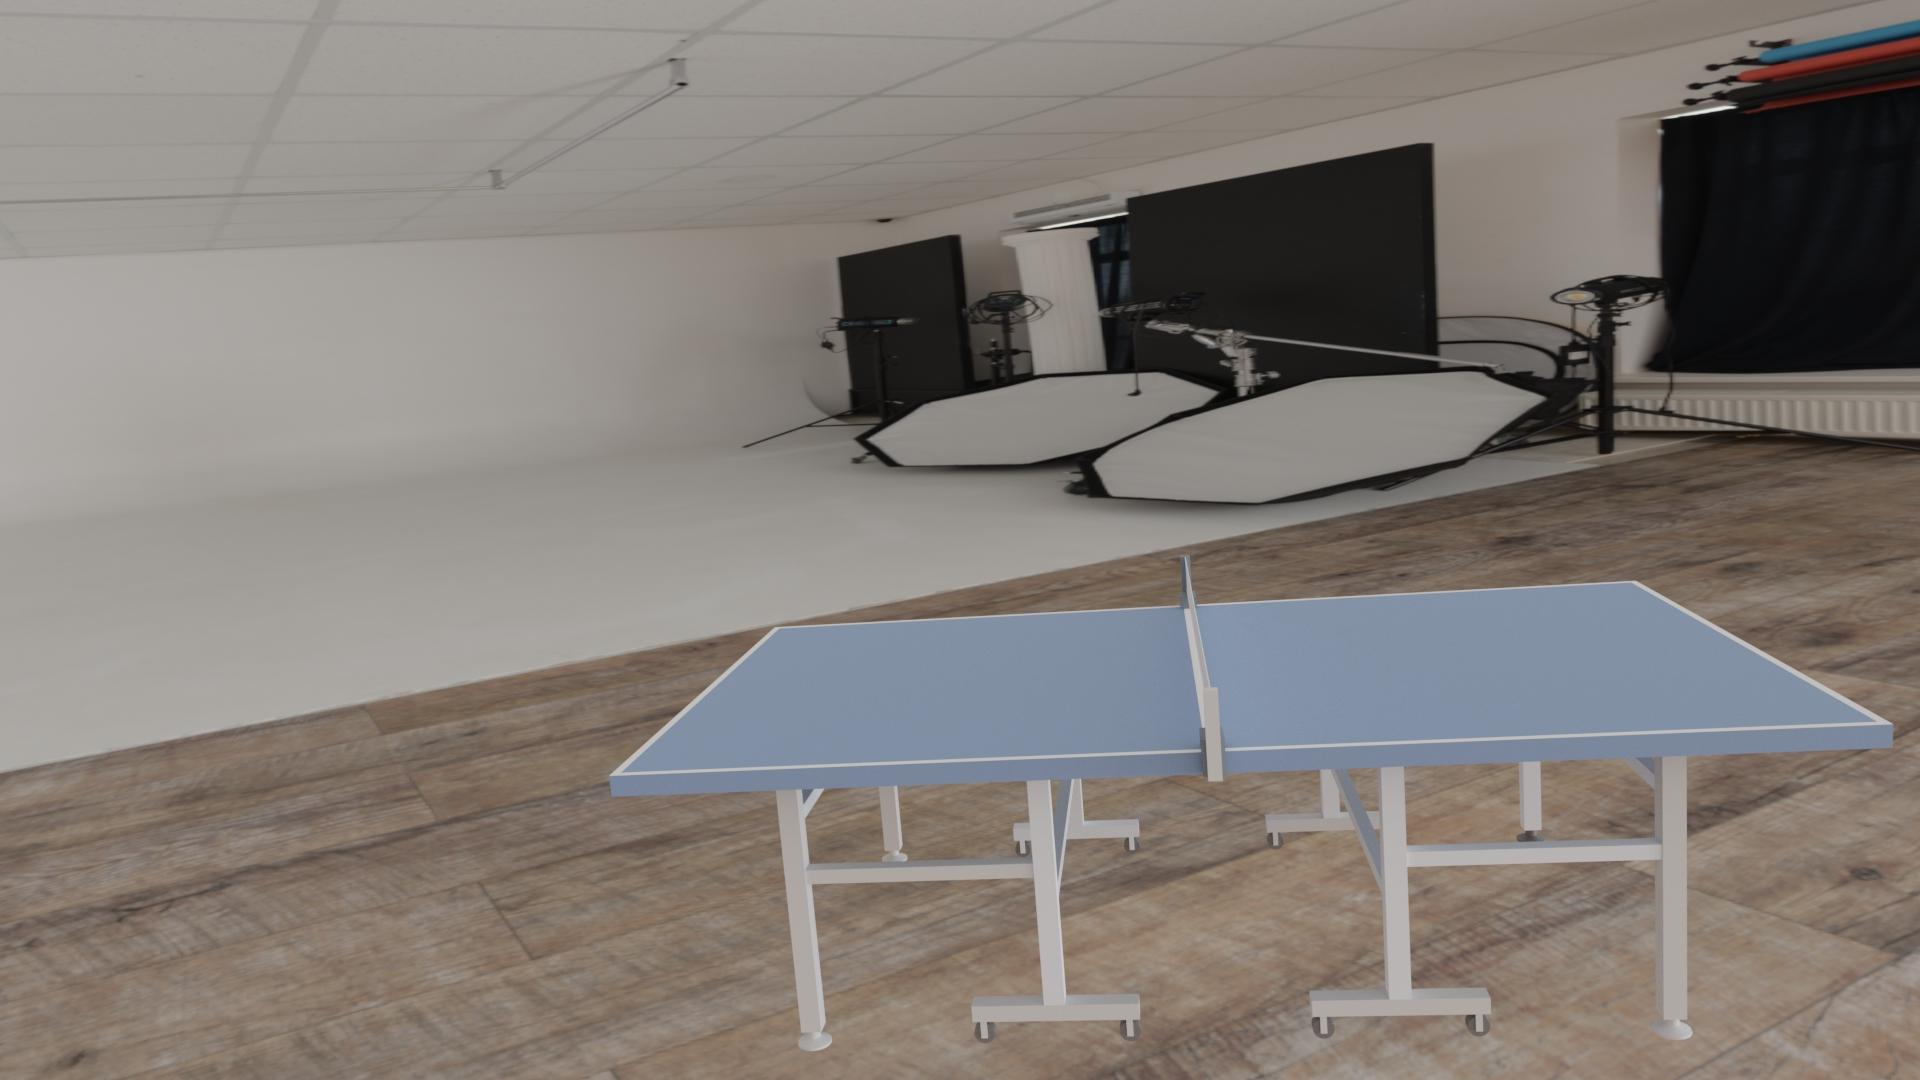table: (621, 583, 1878, 773)
